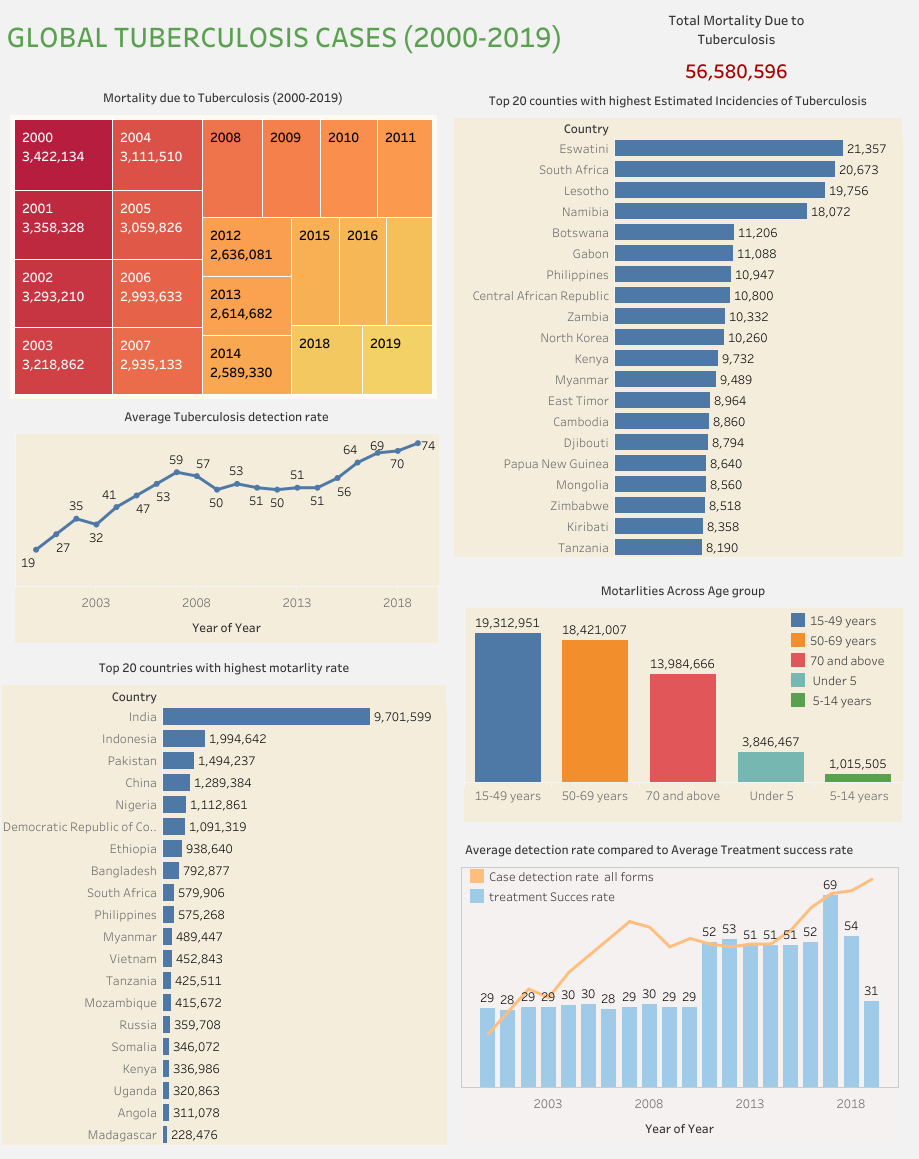

Layout of this report page (visuals, bound fields, positions):
{"tool":"tableau","page":{"name":"Dashboard 2","canvas":[920,1160],"ordinal":1},"visuals":[{"type":"worksheet","title":"Sheet 12","mark":"Automatic","box":[654,4,165,81]},{"type":"text","box":[4,9,605,72]},{"type":"worksheet","title":"Sheet 10","mark":"Automatic","box":[10,82,426,316]},{"type":"worksheet","title":"Sheet 5","mark":"Automatic","rows":["Country"],"cols":["Estimated_incidence_of_all_forms_of_tuberculosis"],"box":[454,85,448,486]},{"type":"worksheet","title":"Sheet 6","mark":"Automatic","rows":["Case_detection rate _all forms"],"cols":["year"],"box":[15,401,423,242]},{"type":"worksheet","title":"Sheet 4","mark":"Automatic","box":[464,575,438,247]},{"type":"legend","title":"Sheet 4","param":"[federated.0aborg10l7afol1d1lysi0fh7leh].[:Measure Names]","box":[788,610,106,102]},{"type":"worksheet","title":"Sheet 2","mark":"Automatic","rows":["Country"],"cols":["Total Death"],"box":[2,652,444,496]},{"type":"worksheet","title":"Sheet 11","mark":"Automatic","rows":["Average treatment Succes rate","Case_detection rate _all forms"],"cols":["year"],"box":[461,834,438,311]},{"type":"legend","title":"Sheet 11","param":"[federated.0aborg10l7afol1d1lysi0fh7leh].[:Measure Names]","box":[467,866,191,41]}]}

Visuals, with their boxes in screenshot pixels (x1, y1, x2, y2), scaled from the page's 920x1160 canvas onto the 919x1159 screenshot:
"Sheet 12" worksheet: select_region(653, 4, 818, 85)
text: select_region(4, 9, 608, 81)
"Sheet 10" worksheet: select_region(10, 82, 436, 398)
"Sheet 5" worksheet: select_region(454, 85, 901, 571)
"Sheet 6" worksheet: select_region(15, 401, 438, 642)
"Sheet 4" worksheet: select_region(463, 575, 901, 821)
"Sheet 4" legend: select_region(787, 609, 893, 711)
"Sheet 2" worksheet: select_region(2, 651, 446, 1147)
"Sheet 11" worksheet: select_region(460, 833, 898, 1144)
"Sheet 11" legend: select_region(466, 865, 657, 906)
